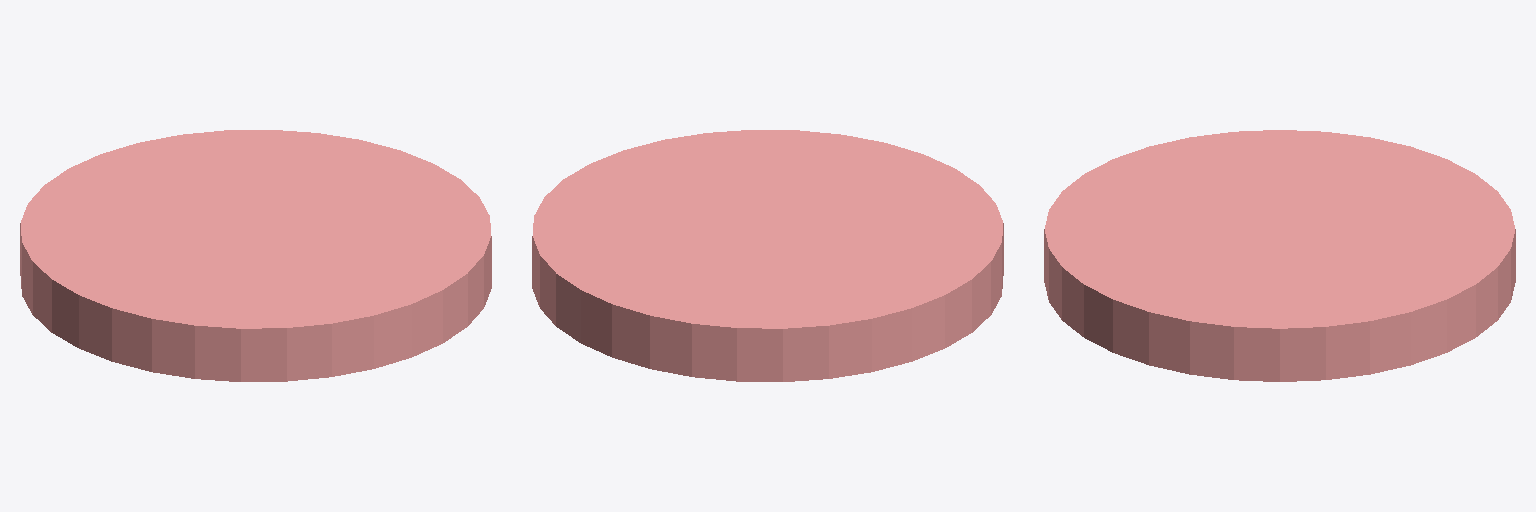
robot.urdf — cube:
<?xml version="1.0" ?>
<robot name="cube">
  <link name="baseLink">
    <contact>
      <lateral_friction value="1.0"/>
      <rolling_friction value="0.0"/>
      <contact_cfm value="0.0"/>
      <contact_erp value="1.0"/>
    </contact>
    <inertial>
      <origin rpy="0 0 0" xyz="0 0 0"/>
       <mass value="1.0"/>
       <inertia ixx="1" ixy="0" ixz="0" iyy="1" iyz="0" izz="1"/>
    </inertial>
    <visual>
      <origin rpy="0 0 0" xyz="0 0 0"/>
      <geometry>
		<cylinder length="0.05" radius="0.2"/>
      </geometry>
       <material name="white">
        <color rgba="1 0.7 0.7 1"/>
      </material>
    </visual>
    <collision>
      <origin rpy="0 0 0" xyz="0 0 0"/>
      <geometry>
	 	<cylinder length="0.05" radius="0.2"/>
      </geometry>
    </collision>
  </link>

  <link name="graspLink">
    <visual>
      <origin rpy="0 0 0" xyz="0 0 0"/>
      <geometry>
				<mesh filename="cube.obj" scale="0.06 0.04 0.005"/>
      </geometry>
       <material name="red">
        <color rgba="1 0 0 1"/>
      </material>
    </visual>
  </link>

  <joint name="base_to_right_leg" type="fixed">
    <parent link="baseLink"/>
    <child link="graspLink"/>
    <origin xyz="0 0 0.075"/>
  </joint>
</robot>

--- What the picture shows (computed from the rendered views, not written in the file) ---
The picture shows the robot from 3 angles, left to right: view 1: azimuth 30°, elevation 25°; view 2: azimuth 150°, elevation 25°; view 3: azimuth 270°, elevation 25°; orthographic projection.
Model cube with 2 links and 1 joints (1 fixed), rooted at baseLink, posed all joints at 0.
Links seen in each view (by area): view 1: baseLink; view 2: baseLink; view 3: baseLink.
Link boxes in pixels (left/top/right/bottom): baseLink: left=20, top=130, right=491, bottom=381; baseLink: left=532, top=130, right=1003, bottom=381; baseLink: left=1044, top=130, right=1515, bottom=381.
Bounding box of the posed robot: 0.4 × 0.4 × 0.05 m (x, y, z).
Meshes: 1 distinct files referenced, 0 mesh visuals loaded (none loaded); not drawn: 1 (reference not matched to a file when rendering).